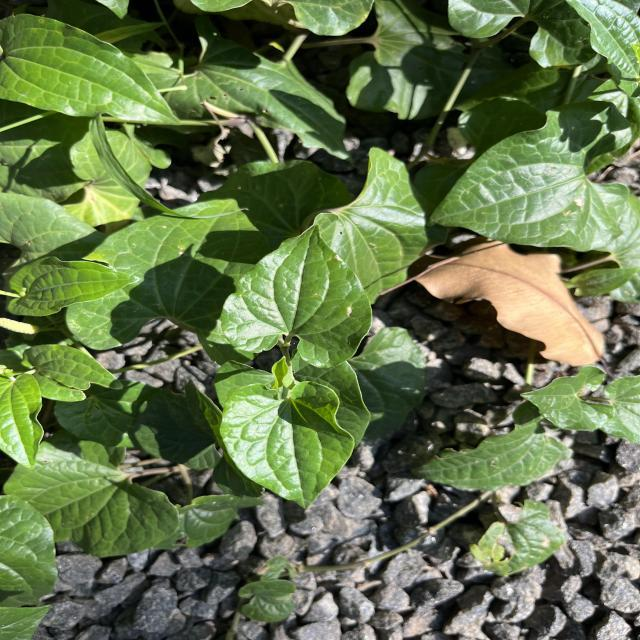Piper longum: (219, 222, 374, 369), (218, 378, 356, 512)
